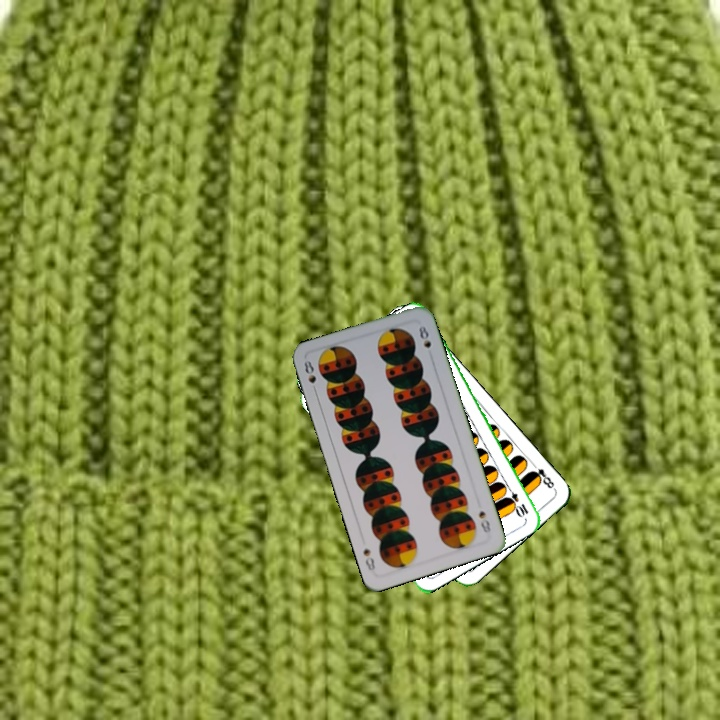E10: (502, 482, 531, 519)
E8: (526, 459, 558, 493)
S8: (299, 356, 320, 396), (475, 507, 493, 535)
